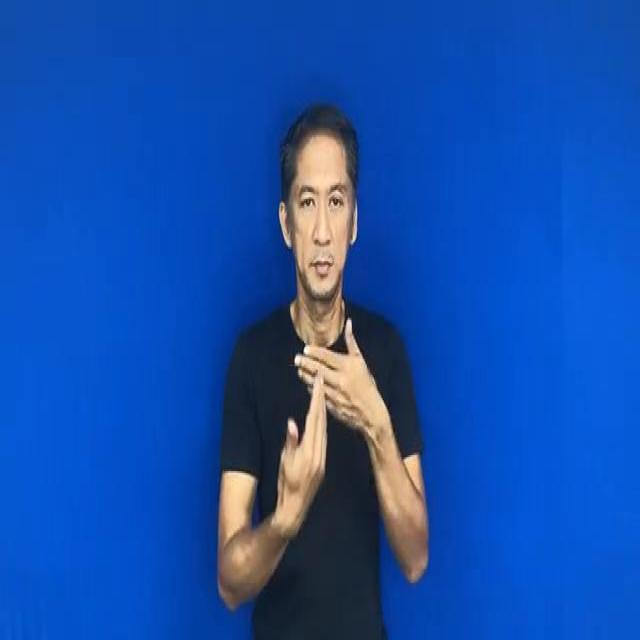bread: (272, 322, 389, 516)
